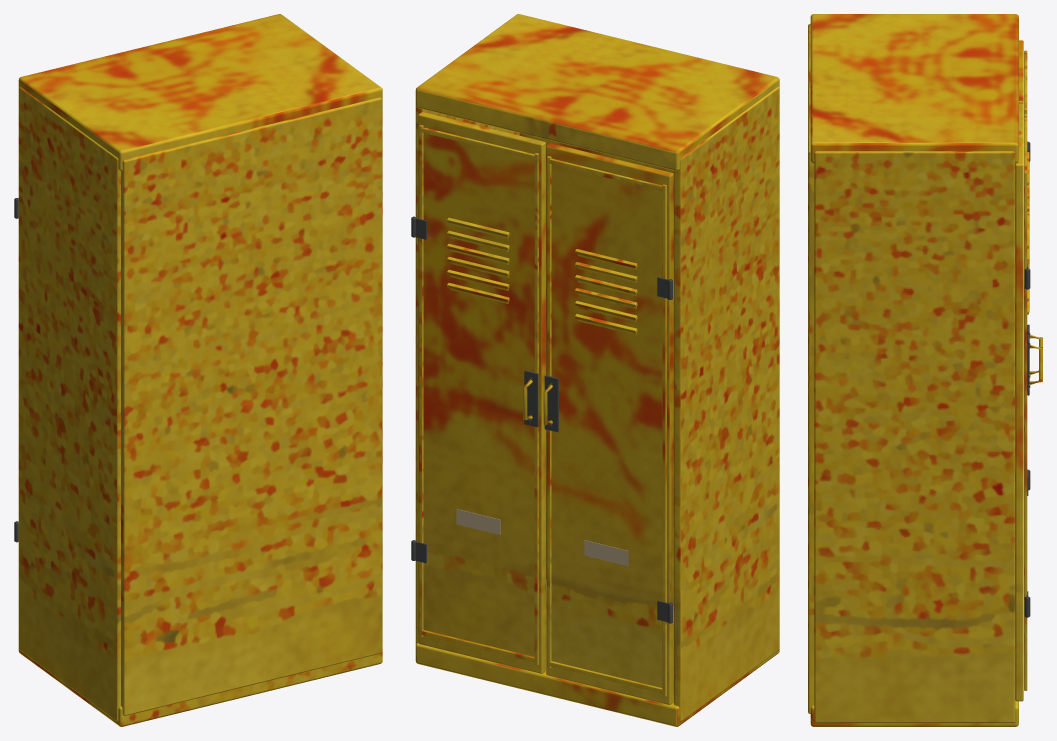
Rendered from cabinet-shell.fbx.
3 views of the same model, side by side, from view 1: azimuth 30°, elevation 25°; view 2: azimuth 150°, elevation 25°; view 3: azimuth 270°, elevation 25° (orthographic).
Visible parts, largest first — view 1: cabinet-shell; view 2: cabinet-shell; view 3: cabinet-shell.
Part boxes in pixels (x1=…): cabinet-shell: x1=14, y1=14, x2=382, y2=726; cabinet-shell: x1=411, y1=14, x2=779, y2=726; cabinet-shell: x1=808, y1=14, x2=1042, y2=726.
Bounding box in the file's own units: 89.9 × 188 × 67.78.
